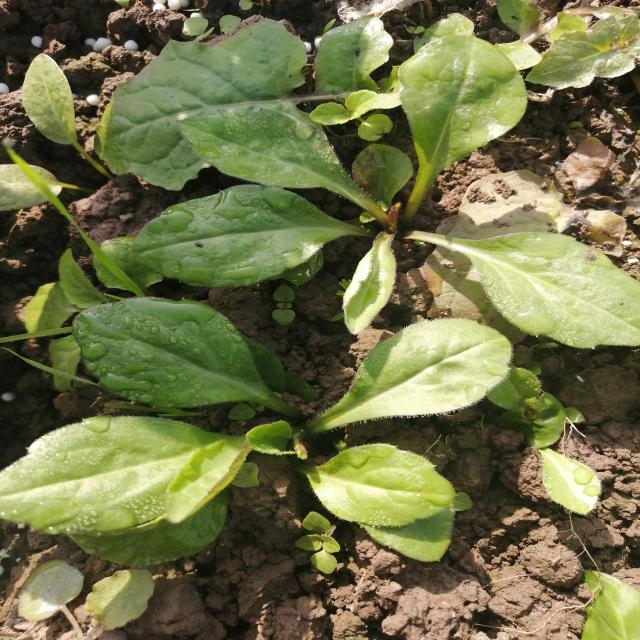plantain: (142, 45, 628, 348), (0, 287, 511, 571)
